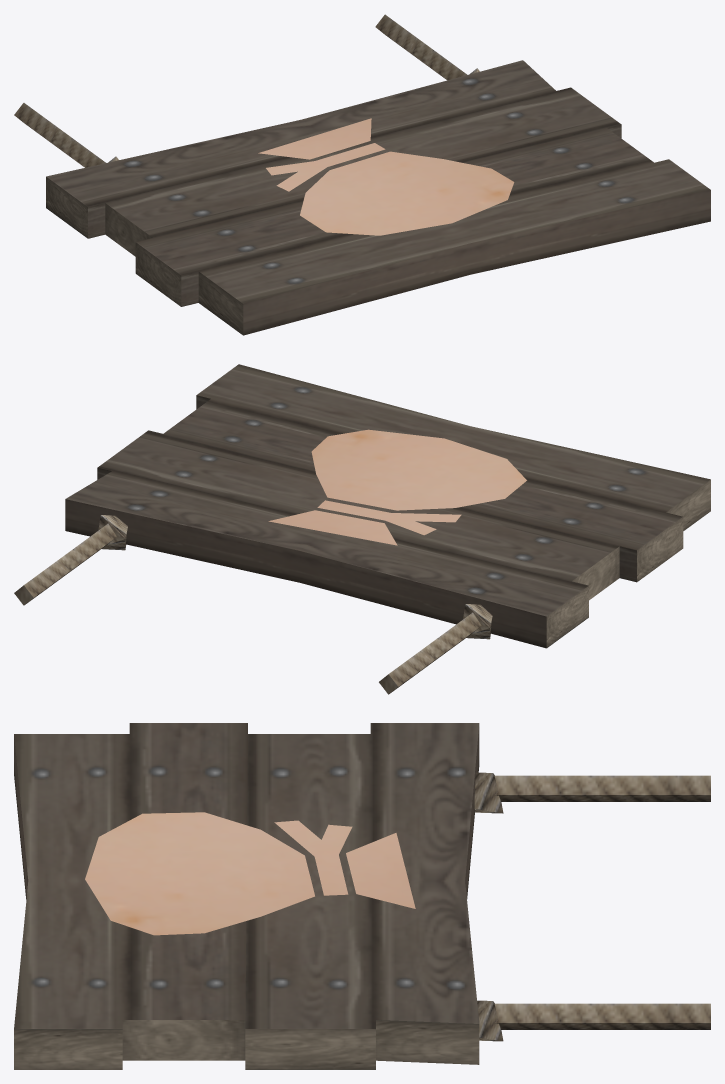
The model's file is Sign_Shop.fbx.
3 renders of one model, top to bottom at view 1: azimuth 30°, elevation 25°; view 2: azimuth 150°, elevation 25°; view 3: azimuth 270°, elevation 25°, orthographic. The views are drawn at different scales.
Parts seen in each view (by area): view 1: Sign_Shop; view 2: Sign_Shop; view 3: Sign_Shop.
Part boxes in pixels (box(x1,y1,x2,y2)): Sign_Shop: box(14, 14, 710, 335); Sign_Shop: box(14, 364, 710, 694); Sign_Shop: box(14, 723, 710, 1069).
Bounding box in the file's own units: 1.9 × 0.1603 × 1.83.
